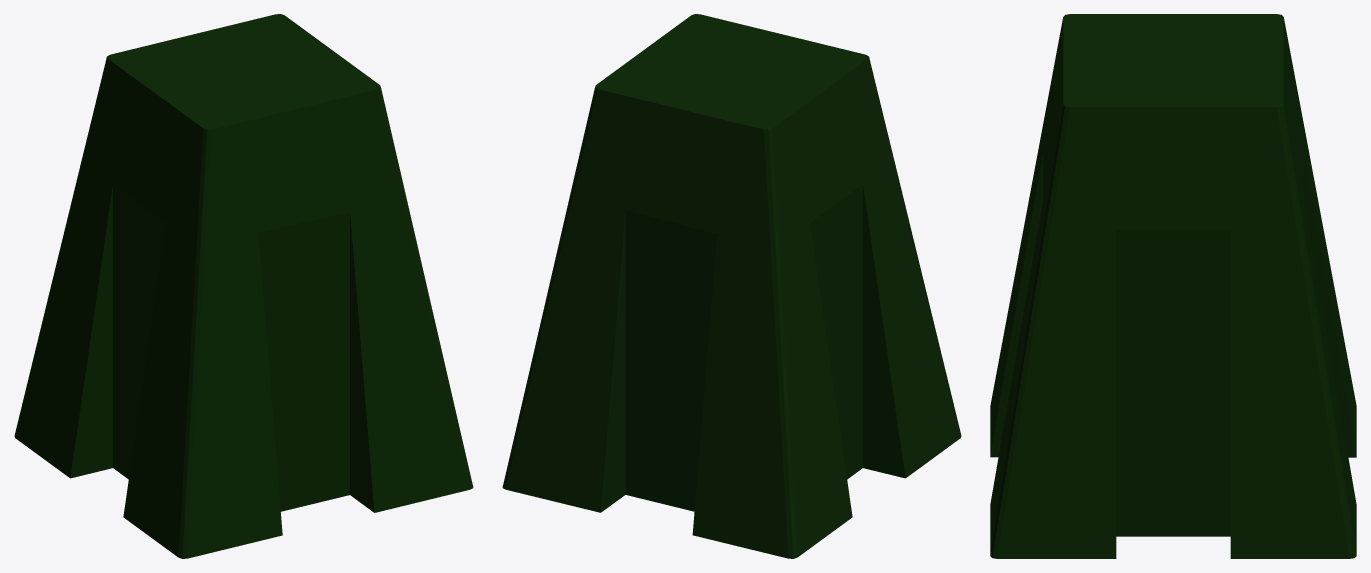
The model's file is square-base-2.fbx.
3 views of the same model, side by side, from view 1: azimuth 30°, elevation 25°; view 2: azimuth 150°, elevation 25°; view 3: azimuth 270°, elevation 25° (orthographic). The views are drawn at different scales.
Visible parts, largest first — view 1: square-base-2; view 2: square-base-2; view 3: square-base-2.
Part boxes in pixels (x1,y1,x2,y2): square-base-2: [14, 14, 473, 558]; square-base-2: [502, 14, 961, 558]; square-base-2: [990, 14, 1356, 558].
Size of the model in its own units: 2.64 by 3.35 by 2.64.
